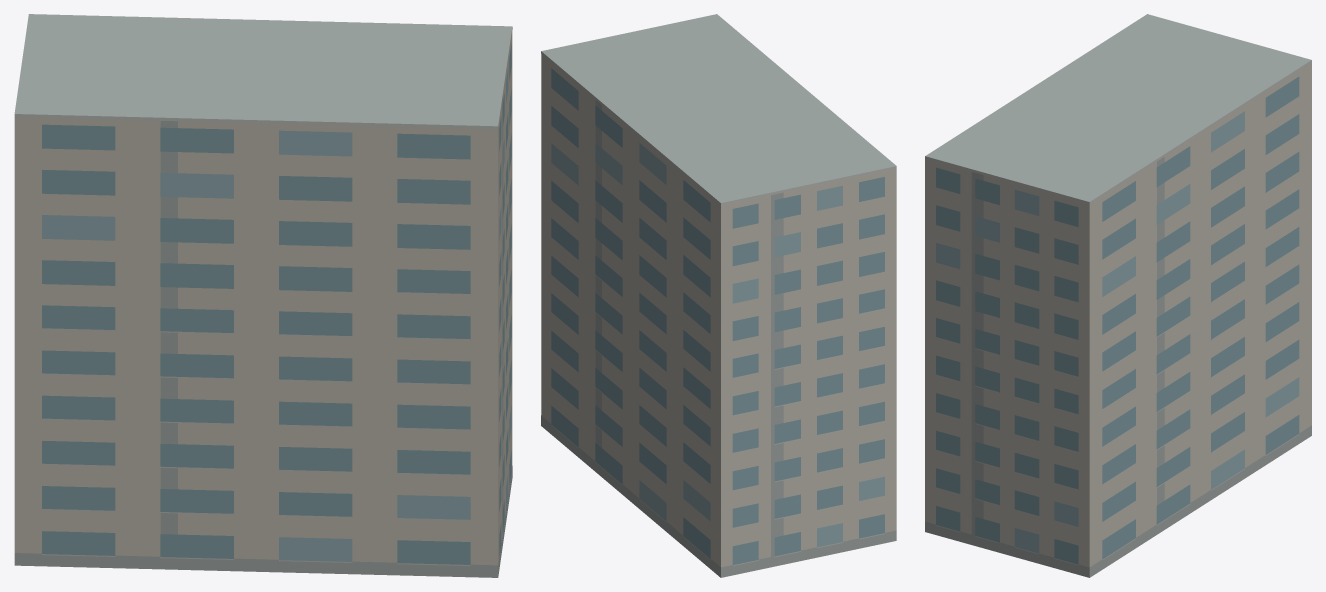
File: residential-9d7a1917-1a66-4058-8287-3aa59aac1990.glb
3 views of the same model, side by side, from view 1: azimuth 30°, elevation 25°; view 2: azimuth 150°, elevation 25°; view 3: azimuth 270°, elevation 25° (orthographic). The views are drawn at different scales.
Visible parts, largest first — view 1: residential-9d7a1917-1a66-4058-8287-3aa59aac1990.tmp; view 2: residential-9d7a1917-1a66-4058-8287-3aa59aac1990.tmp; view 3: residential-9d7a1917-1a66-4058-8287-3aa59aac1990.tmp.
Boxes of the visible parts, <box> form: residential-9d7a1917-1a66-4058-8287-3aa59aac1990.tmp: <box>14,14,512,577</box>; residential-9d7a1917-1a66-4058-8287-3aa59aac1990.tmp: <box>541,14,896,577</box>; residential-9d7a1917-1a66-4058-8287-3aa59aac1990.tmp: <box>925,14,1311,577</box>.
Bounding box in the file's own units: 37.57 × 35 × 32.65.
